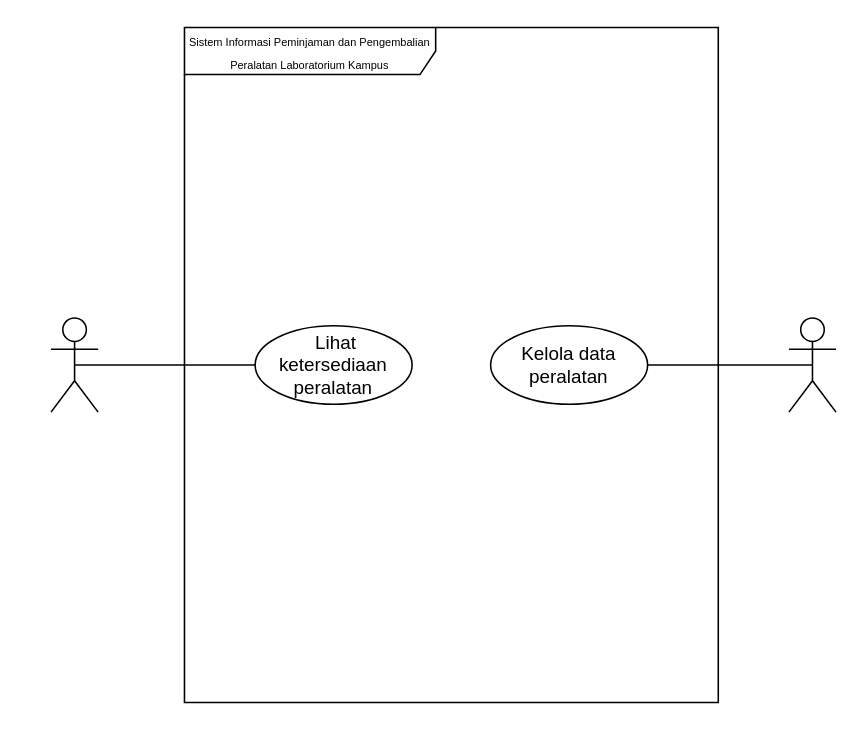
The diagram is 864 pixels wide and 730 high, and some of its shapes have lost their labels. The centre of each missing label's shape, as x and y in pixels:
"Actor" goes at point 811,364.
"Mahasiswa" goes at point 73,364.
